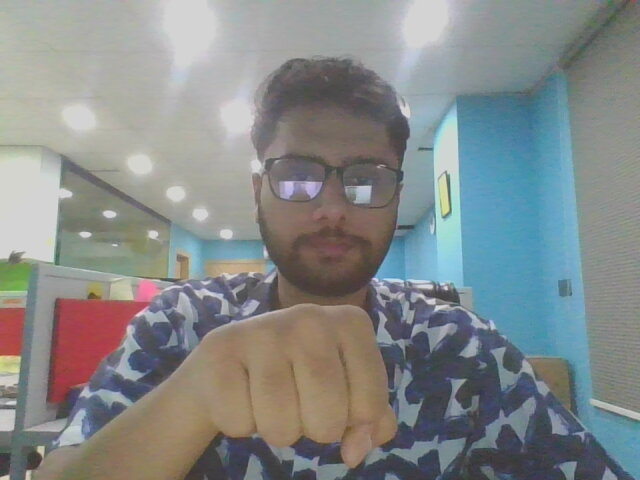yes: (193, 300, 406, 470)
